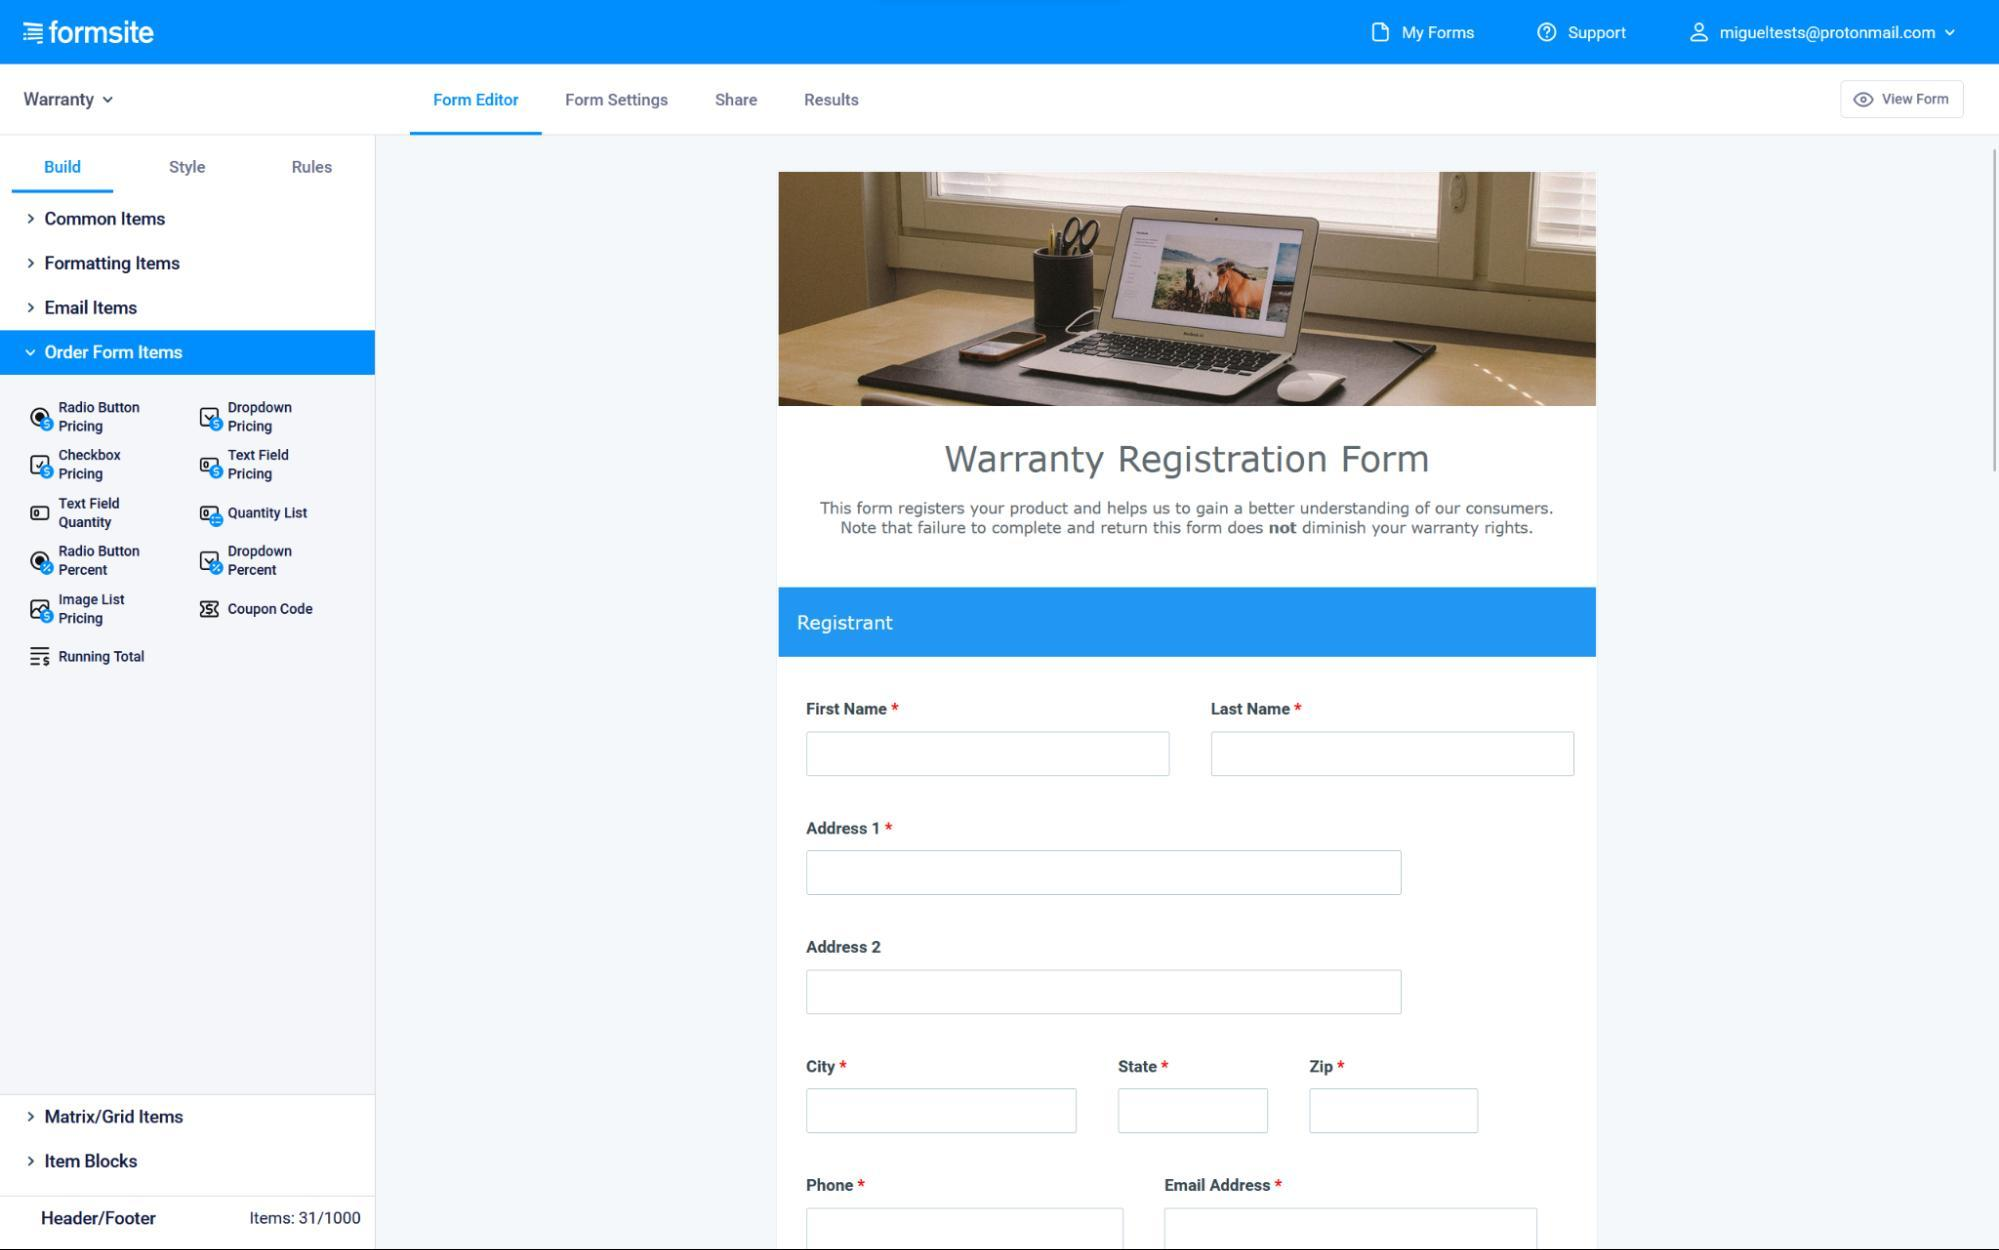button: (781, 590, 1600, 657), (1846, 78, 1967, 120)
dropdown: (1, 331, 374, 373)
icon: (1360, 17, 1398, 56), (1684, 17, 1715, 58), (1535, 14, 1565, 50), (197, 402, 225, 436), (27, 549, 56, 577), (197, 549, 225, 577), (199, 504, 228, 530), (27, 452, 53, 480), (29, 596, 55, 624), (29, 642, 53, 670), (30, 405, 53, 433), (197, 599, 223, 624), (30, 503, 55, 526), (202, 455, 225, 480)
input: (809, 971, 1401, 1017), (808, 853, 1404, 897), (1211, 730, 1574, 779), (807, 732, 1171, 778), (1164, 1211, 1537, 1250), (808, 1205, 1123, 1250), (809, 1089, 1074, 1130), (1312, 1090, 1481, 1135), (1120, 1089, 1269, 1135)
label: (40, 255, 192, 278), (1161, 1174, 1288, 1201), (40, 298, 153, 324), (60, 400, 143, 435), (799, 696, 902, 723), (60, 544, 143, 577), (56, 493, 124, 530), (228, 448, 298, 482), (60, 593, 127, 629), (228, 544, 300, 577), (43, 213, 169, 232), (56, 449, 125, 482), (228, 405, 300, 436), (1208, 696, 1305, 719), (805, 818, 897, 841), (1109, 1053, 1175, 1080), (804, 1172, 870, 1198), (804, 937, 884, 958), (229, 602, 314, 621), (228, 507, 317, 523), (62, 649, 145, 665), (799, 1057, 854, 1080), (1308, 1057, 1349, 1074)
